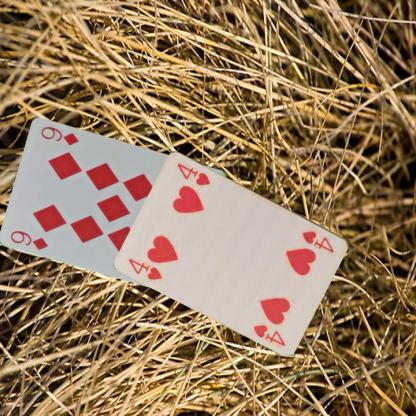4h: (299, 228, 336, 254), (126, 256, 163, 282)
9d: (8, 228, 50, 251)
